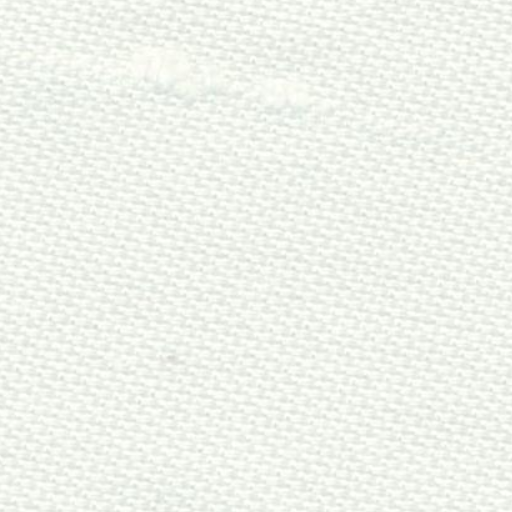DaiSha: (68, 30, 372, 122)
